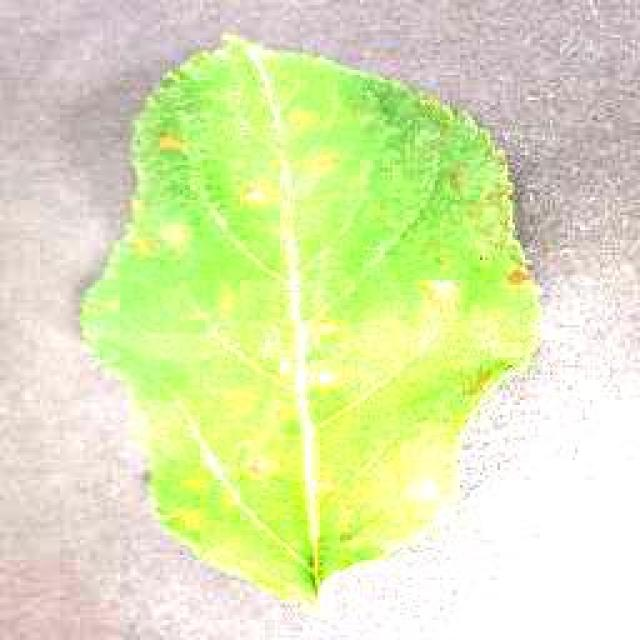apple healthy: (75, 30, 545, 605)
